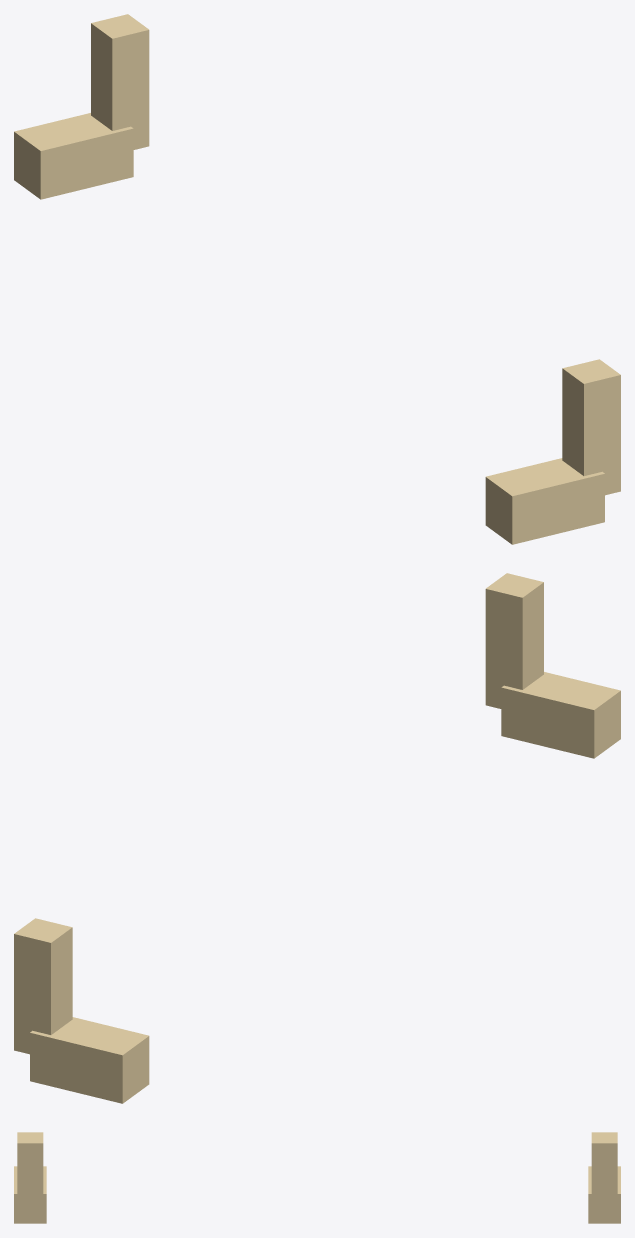
Rendered from SM_Mixer_Wall.fbx.
3 views of the same model, one above another, from view 1: azimuth 30°, elevation 25°; view 2: azimuth 150°, elevation 25°; view 3: azimuth 270°, elevation 25° (orthographic). The views are drawn at different scales.
Visible parts, largest first — view 1: SM_Mixer_Wall; view 2: SM_Mixer_Wall; view 3: SM_Mixer_Wall.
Boxes of the visible parts, x1,y1,x2,y2 form: SM_Mixer_Wall: (14,14,620,544); SM_Mixer_Wall: (14,573,620,1103); SM_Mixer_Wall: (14,1132,620,1223).
Size of the model in its own units: 6 by 7.25 by 46.5.
